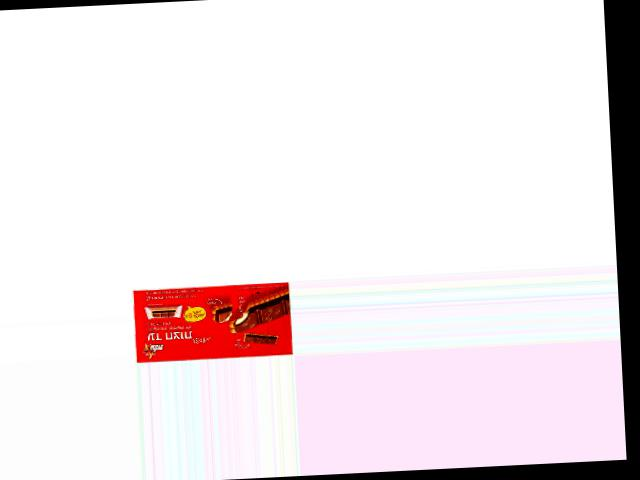chocolate: (130, 281, 293, 363)
